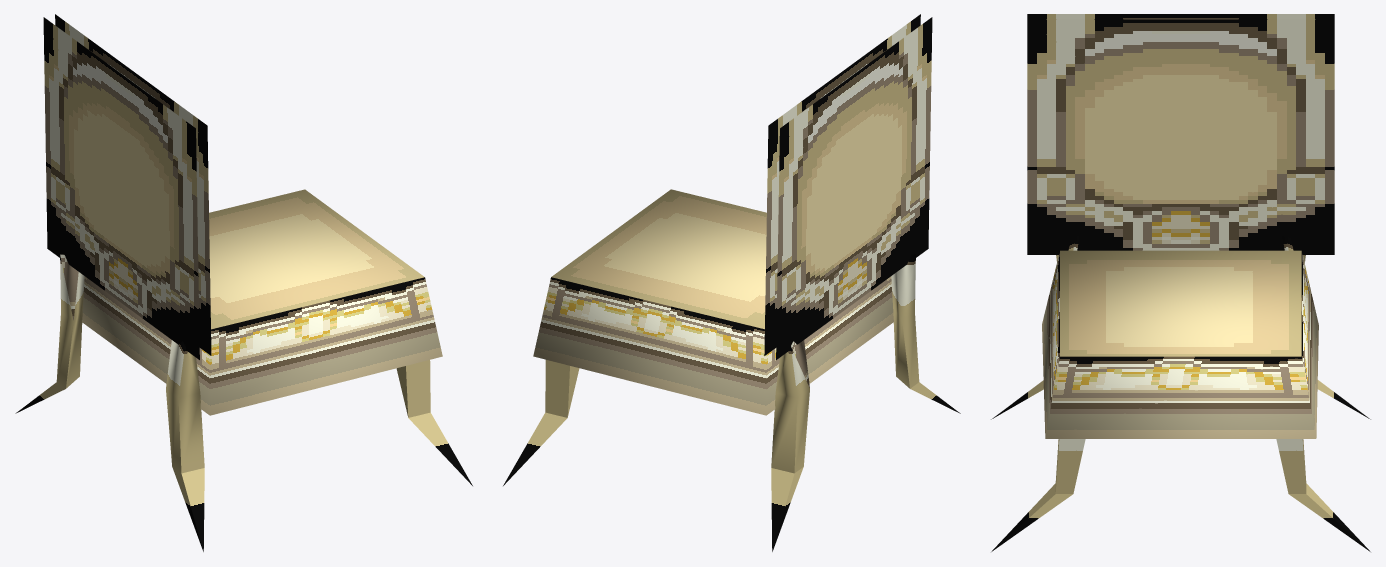
The picture shows the model from 3 angles, left to right: view 1: azimuth 30°, elevation 25°; view 2: azimuth 150°, elevation 25°; view 3: azimuth 270°, elevation 25°; orthographic projection.
Visible parts, largest first — view 1: 3584kg_25_isu; view 2: 3584kg_25_isu; view 3: 3584kg_25_isu.
Boxes of the visible parts, box(x1,y1,x2,y2) form: 3584kg_25_isu: box(15, 14, 472, 551); 3584kg_25_isu: box(503, 14, 960, 551); 3584kg_25_isu: box(991, 14, 1370, 551).
Bounding box in the file's own units: 0.8374 × 1.21 × 1.02.
Materials: 3 (3 with a texture image).
